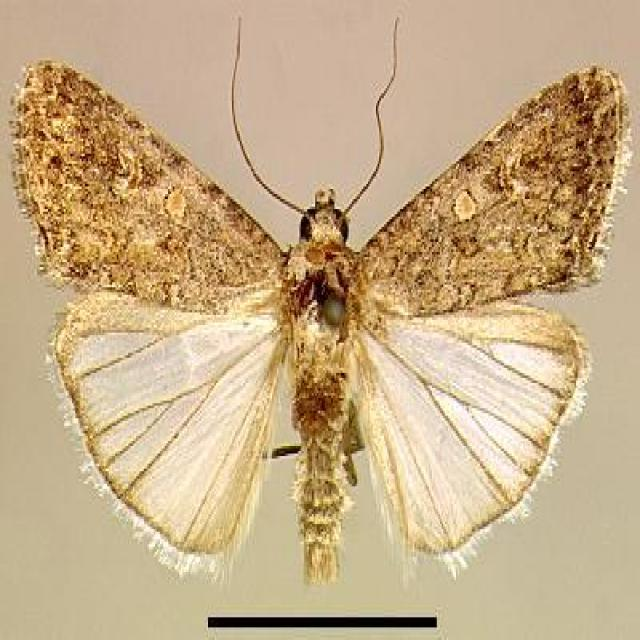BeetArmyWorm-Adult-: (9, 36, 630, 584)
